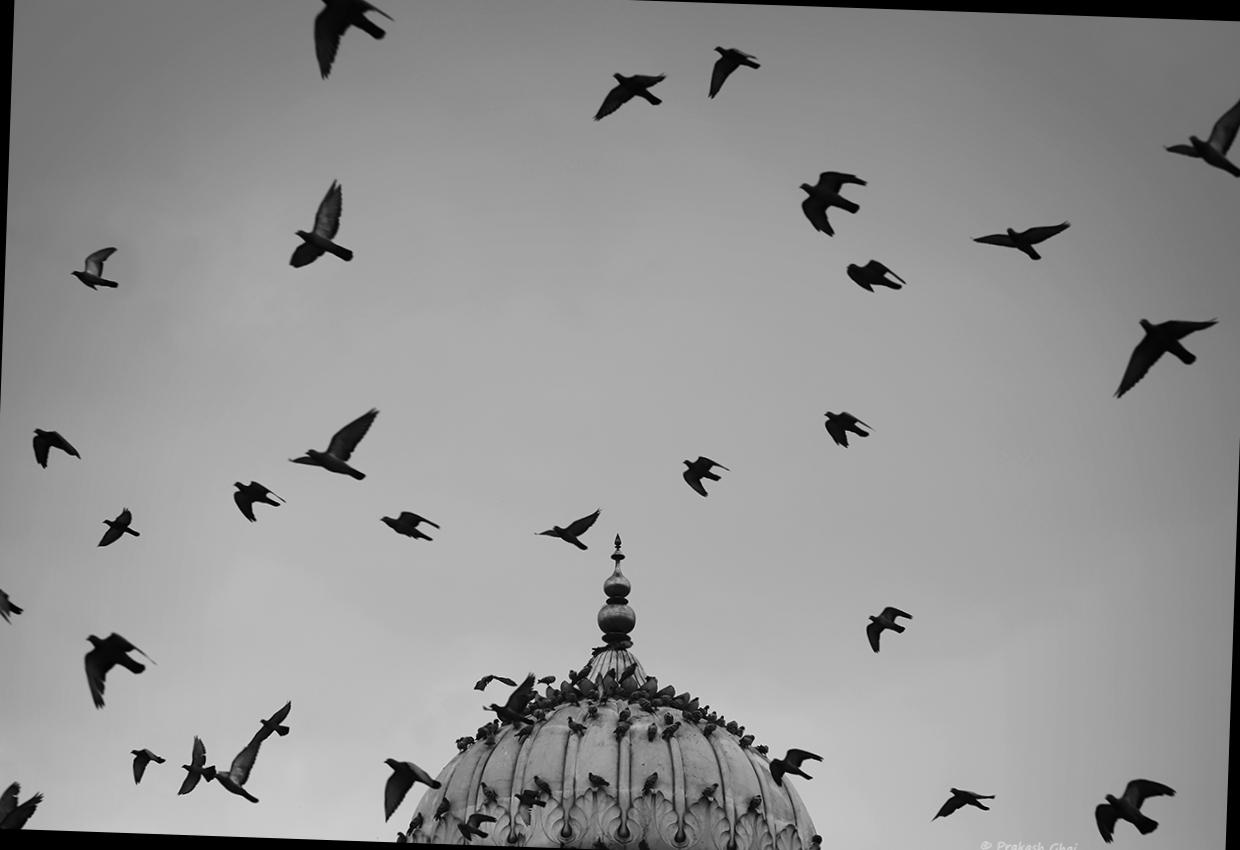bird: (268, 164, 376, 294), (274, 392, 386, 493), (965, 206, 1100, 272), (694, 28, 771, 120), (657, 431, 738, 512), (843, 590, 931, 663), (802, 382, 884, 457), (51, 227, 134, 299), (921, 770, 1003, 830), (526, 498, 602, 562), (82, 490, 150, 554)
